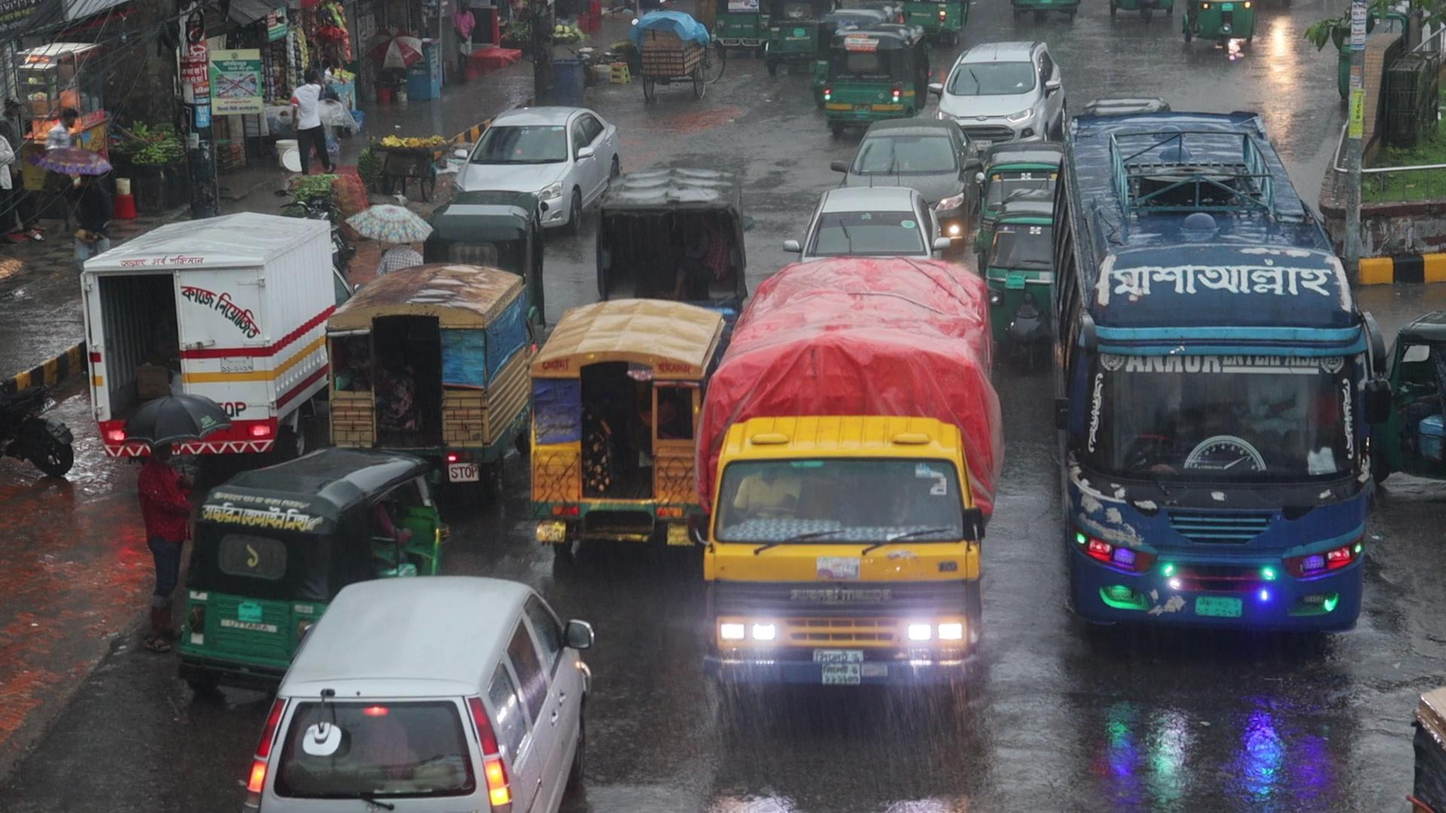Bus: (1048, 103, 1387, 654)
Car: (239, 575, 595, 813), (929, 40, 1063, 140)
Truck: (691, 247, 1011, 716), (520, 294, 712, 558), (314, 259, 518, 466)
